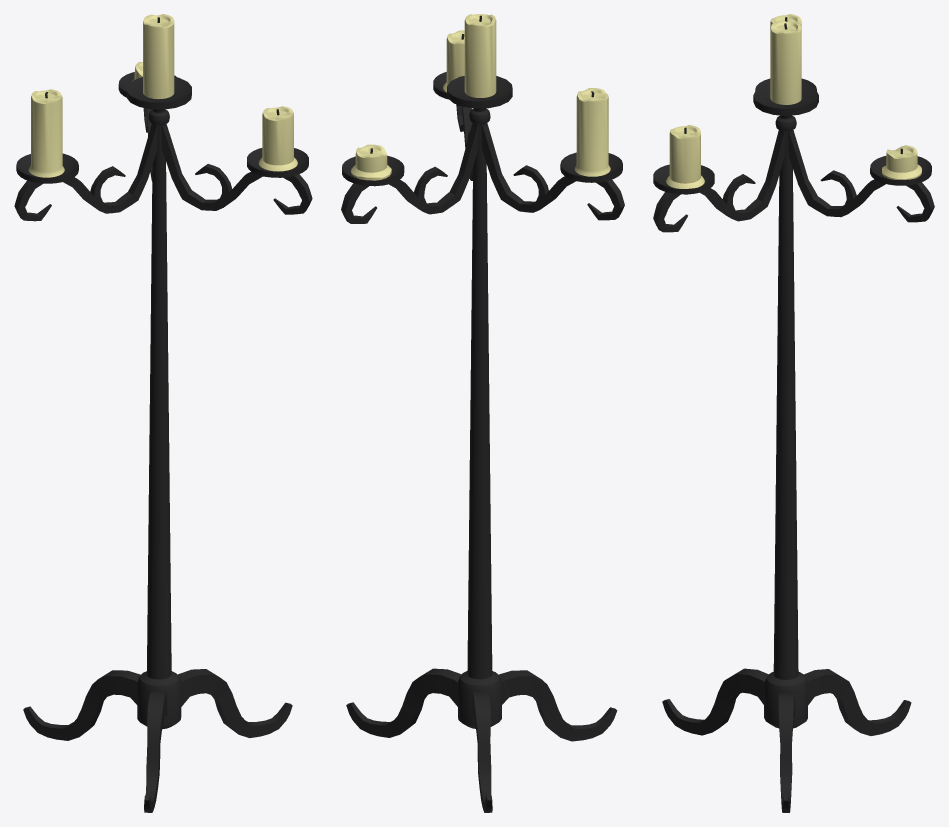
File: standingCandelabra.fbx
3 views of the same model, side by side, from view 1: azimuth 30°, elevation 25°; view 2: azimuth 150°, elevation 25°; view 3: azimuth 270°, elevation 25° (orthographic).
Visible parts, largest first — view 1: Standing Candelabra; view 2: Standing Candelabra; view 3: Standing Candelabra.
Boxes of the visible parts, x1,y1,x2,y2 form: Standing Candelabra: [14, 14, 312, 812]; Standing Candelabra: [341, 14, 624, 812]; Standing Candelabra: [653, 14, 934, 812].
Bounding box in the file's own units: 58.58 × 52.44 × 151.
